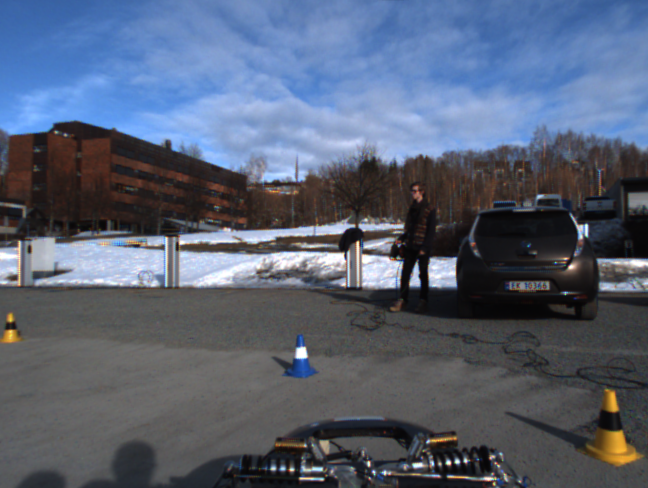cone-small-blue: (280, 334, 320, 378)
cone-small-yellow: (577, 389, 645, 468), (1, 311, 22, 342)
